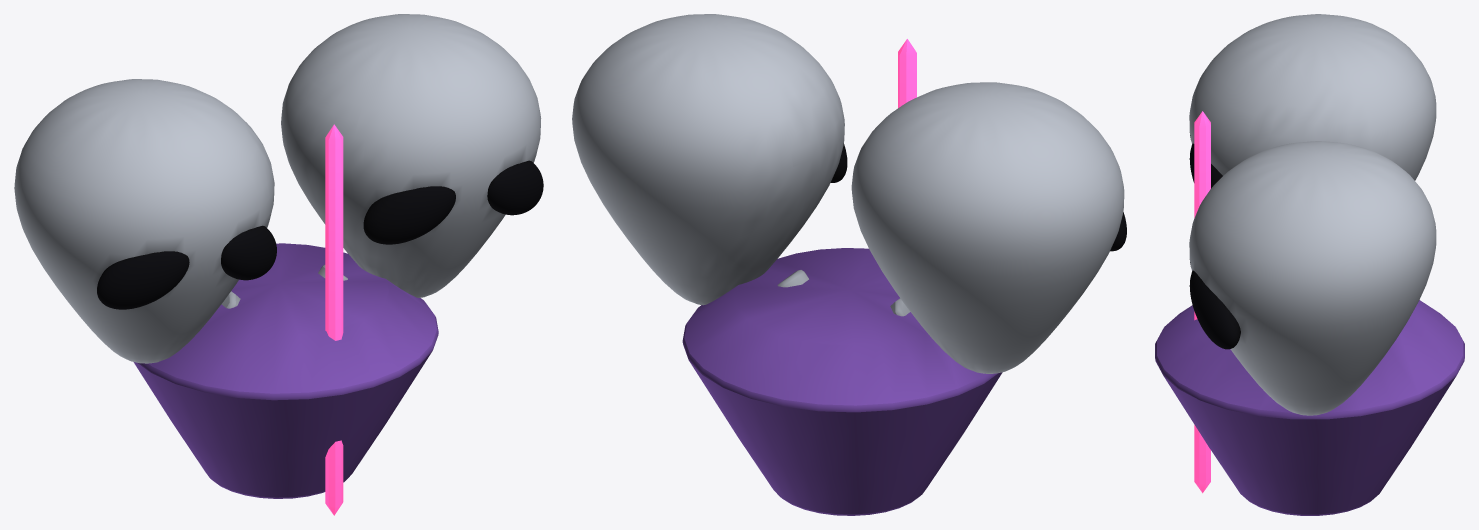
The model's file is alien_splitter.glb.
3 views of the same model, side by side, from view 1: azimuth 30°, elevation 25°; view 2: azimuth 150°, elevation 25°; view 3: azimuth 270°, elevation 25° (orthographic). The views are drawn at different scales.
Parts seen in each view (by area): view 1: skull, skull.001, body, seam, eye, eye.002, eye.003, eye.001; view 2: skull, skull.001, body, seam; view 3: skull.001, body, skull, seam, eye.003.
Part boxes in pixels (left/top/right/bottom): skull: left=14, top=79, right=274, bottom=363; skull.001: left=281, top=14, right=541, bottom=297; body: left=133, top=243, right=438, bottom=498; seam: left=325, top=124, right=343, bottom=515; eye: left=97, top=251, right=189, bottom=309; eye.002: left=363, top=186, right=455, bottom=244; eye.003: left=487, top=160, right=543, bottom=215; eye.001: left=221, top=225, right=276, bottom=280; skull: left=851, top=82, right=1124, bottom=373; skull.001: left=572, top=14, right=844, bottom=305; body: left=682, top=248, right=1002, bottom=515; seam: left=898, top=39, right=916, bottom=107; skull.001: left=1189, top=141, right=1436, bottom=415; body: left=1155, top=300, right=1464, bottom=515; skull: left=1189, top=14, right=1436, bottom=180; seam: left=1194, top=111, right=1210, bottom=493; eye.003: left=1189, top=270, right=1240, bottom=349.
Bounding box in the file's own units: 1.56 × 1.26 × 0.8657.
